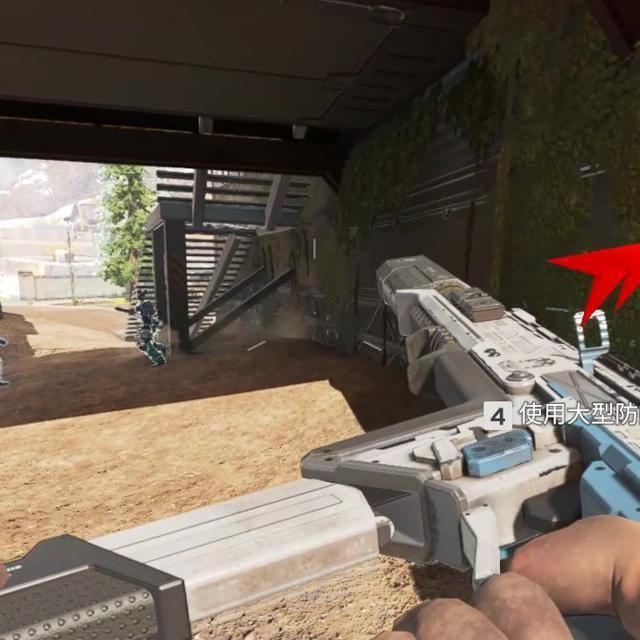avatar: (133, 289, 165, 368)
